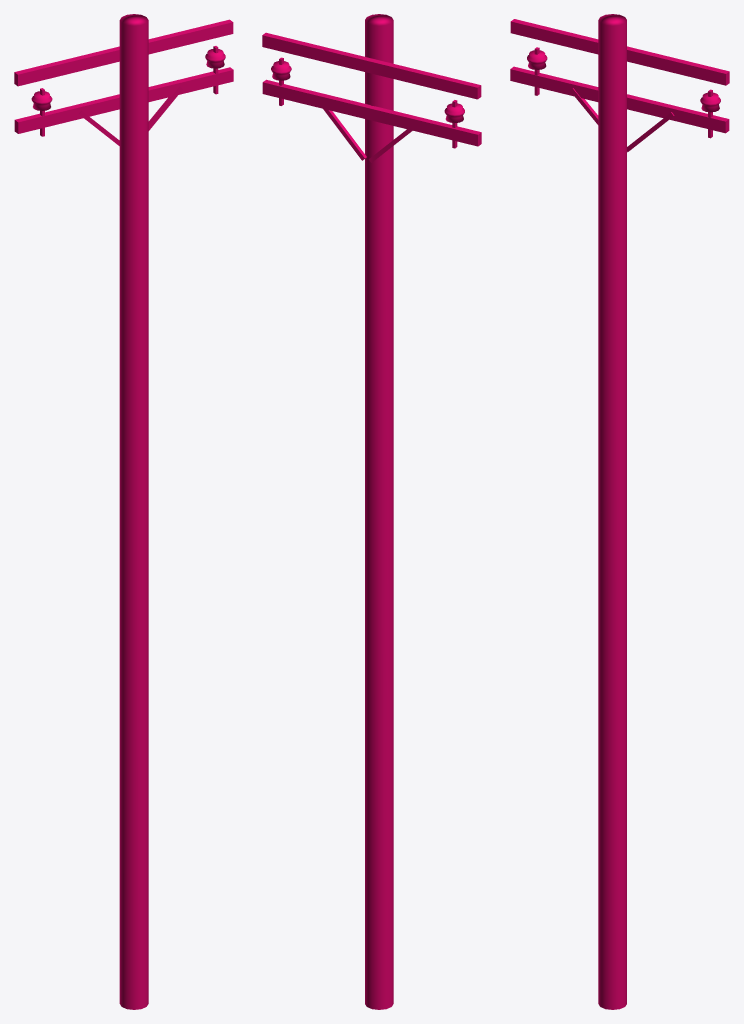
Rendered from Utility_Pole_01_Lod0B.fbx.
3 views of the same model, side by side, from view 1: azimuth 30°, elevation 25°; view 2: azimuth 150°, elevation 25°; view 3: azimuth 330°, elevation 25° (orthographic).
Parts seen in each view (by area): view 1: Utility_Pole_01_Lod0B; view 2: Utility_Pole_01_Lod0B; view 3: Utility_Pole_01_Lod0B.
Part boxes in pixels (x1=…): Utility_Pole_01_Lod0B: x1=14, y1=14, x2=233, y2=1009; Utility_Pole_01_Lod0B: x1=262, y1=14, x2=481, y2=1009; Utility_Pole_01_Lod0B: x1=510, y1=14, x2=729, y2=1009.
Bounding box in the file's own units: 173 × 756 × 28.71.
